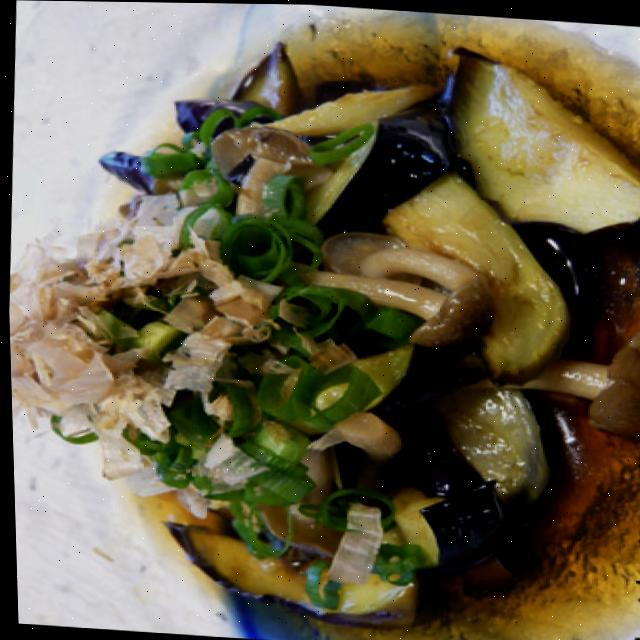鸡蛋料理: (41, 0, 640, 640)
